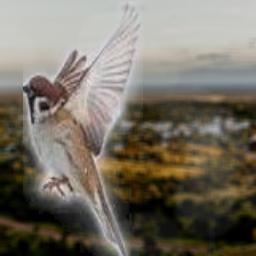Sparrow: (23, 1, 143, 256)
